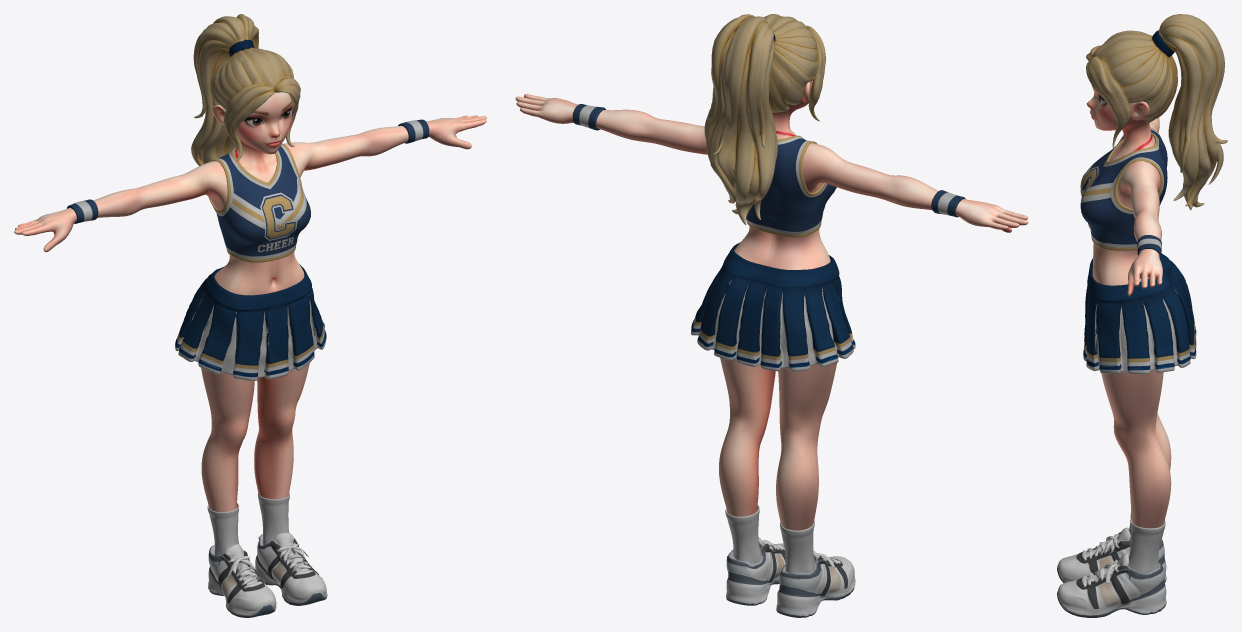
3 renders of one model, left to right at view 1: azimuth 30°, elevation 25°; view 2: azimuth 150°, elevation 25°; view 3: azimuth 270°, elevation 25°, orthographic. The views are drawn at different scales.
Parts seen in each view (by area): view 1: body_6, skirt_4, hair_5, top_1, sneakers_3, socks_2, wristbands_0; view 2: body_6, hair_5, skirt_4, sneakers_3, top_1, socks_2, wristbands_0; view 3: body_6, hair_5, skirt_4, sneakers_3, top_1, socks_2, wristbands_0.
Boxes of the visible parts, x1=… form: body_6: x1=14, y1=92, x2=486, y2=512; skirt_4: x1=175, y1=264, x2=326, y2=380; hair_5: x1=191, y1=14, x2=300, y2=165; top_1: x1=208, y1=143, x2=310, y2=262; sneakers_3: x1=208, y1=532, x2=327, y2=617; socks_2: x1=207, y1=493, x2=289, y2=555; wristbands_0: x1=67, y1=119, x2=429, y2=223; body_6: x1=515, y1=80, x2=1028, y2=530; hair_5: x1=704, y1=14, x2=825, y2=224; skirt_4: x1=691, y1=242, x2=855, y2=371; sneakers_3: x1=726, y1=537, x2=855, y2=617; top_1: x1=746, y1=135, x2=836, y2=237; socks_2: x1=725, y1=505, x2=814, y2=573; wristbands_0: x1=572, y1=104, x2=965, y2=217; body_6: x1=1086, y1=85, x2=1171, y2=528; hair_5: x1=1086, y1=14, x2=1227, y2=209; skirt_4: x1=1083, y1=253, x2=1196, y2=374; sneakers_3: x1=1057, y1=527, x2=1166, y2=617; top_1: x1=1080, y1=127, x2=1167, y2=250; socks_2: x1=1128, y1=510, x2=1165, y2=573; wristbands_0: x1=1137, y1=235, x2=1161, y2=258.
Size of the model in its own units: 1.68 by 1.88 by 0.5028.
Materials: 7 (7 with a texture image).
